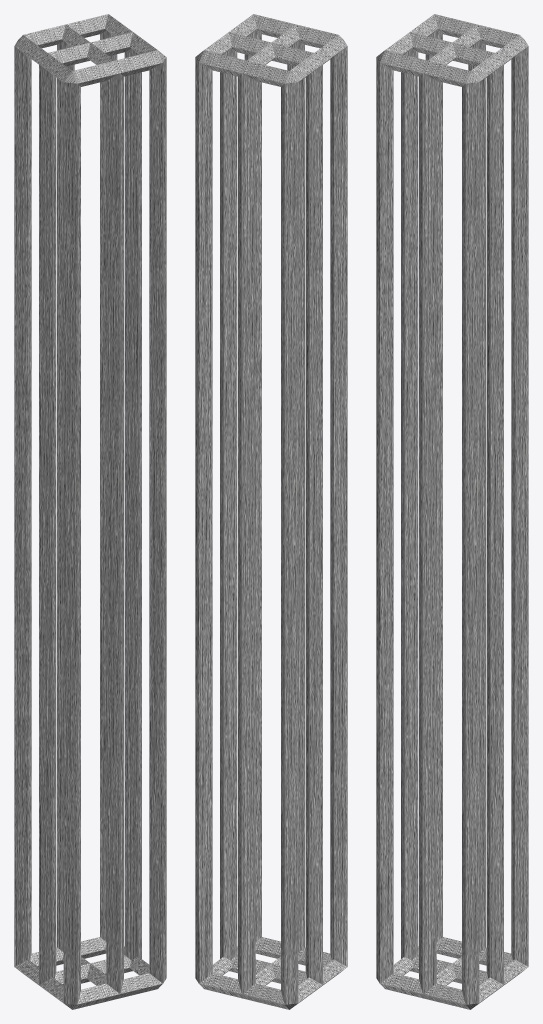
The model's file is Scaffold_Pole_Proto.FBX.
The picture shows the model from 3 angles, left to right: view 1: azimuth 30°, elevation 25°; view 2: azimuth 150°, elevation 25°; view 3: azimuth 330°, elevation 25°; orthographic projection.
Visible parts, largest first — view 1: Scaffold Pole001; view 2: Scaffold Pole001; view 3: Scaffold Pole001.
Boxes of the visible parts, x1,y1,x2,y2 form: Scaffold Pole001: (14,14,166,1009); Scaffold Pole001: (195,14,347,1009); Scaffold Pole001: (376,14,528,1009).
Bounding box in the file's own units: 23.69 × 207 × 23.69.
1 material, 1 textured.
